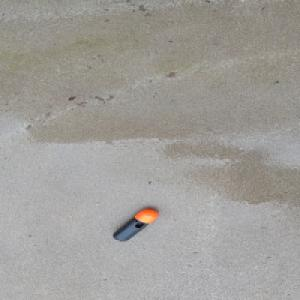PlasticPart: (111, 208, 159, 241)
